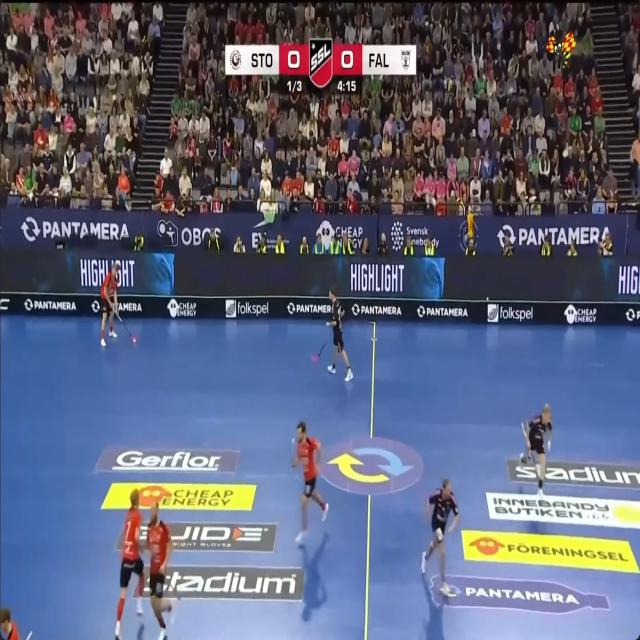Balls: (132, 336, 136, 343)
player: (421, 479, 459, 596), (292, 421, 328, 544), (115, 488, 144, 639), (147, 502, 173, 639), (520, 404, 551, 495), (326, 288, 352, 379), (100, 260, 120, 346), (0, 607, 19, 639)
